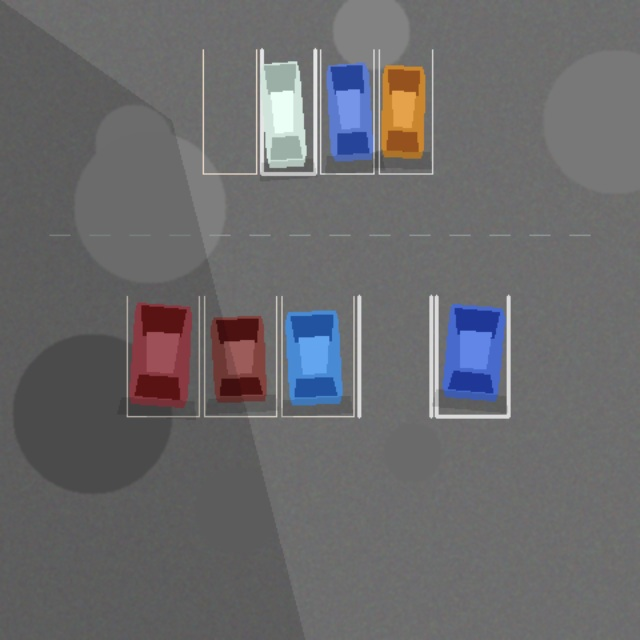space-empty: (359, 296, 431, 416), (203, 49, 256, 173)
space-occupied: (127, 296, 199, 416), (204, 296, 276, 416), (281, 296, 353, 416), (436, 296, 508, 416), (261, 49, 315, 173), (320, 49, 373, 173), (379, 49, 432, 173)
